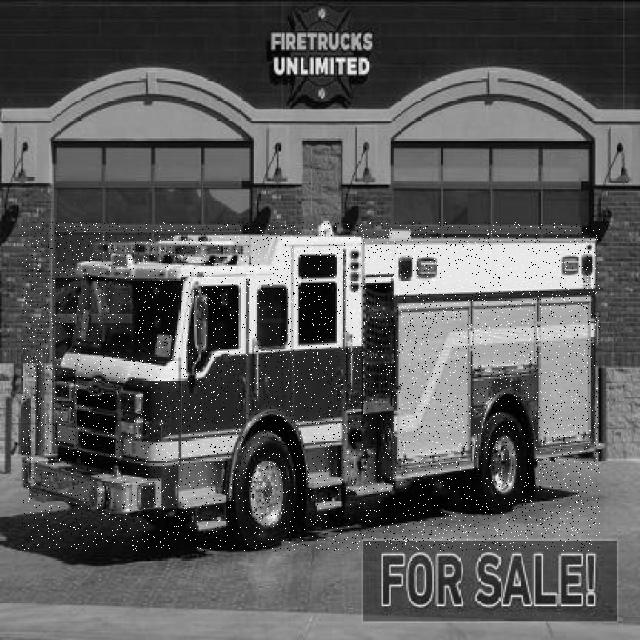Fire Truck: (22, 222, 600, 551)
